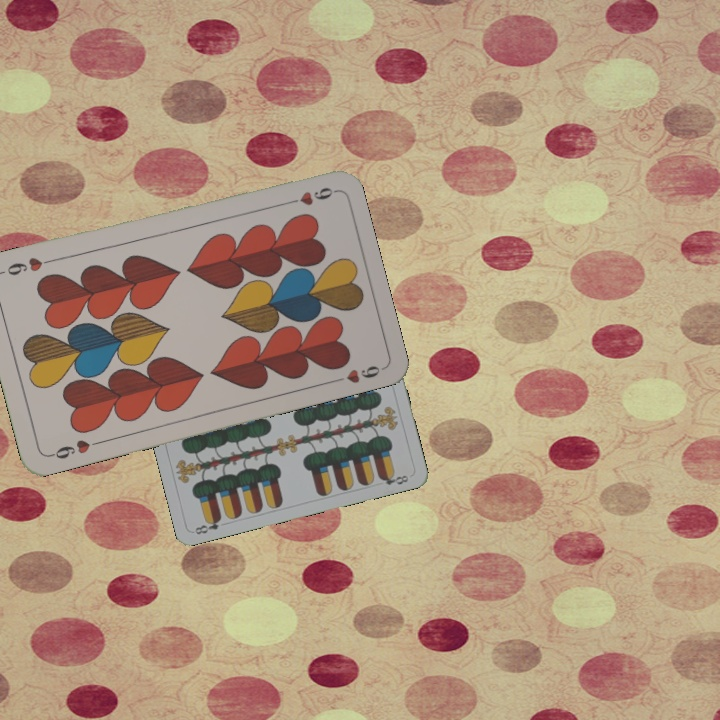E8: (191, 513, 224, 537)
H9: (45, 435, 103, 462), (279, 183, 337, 208)
